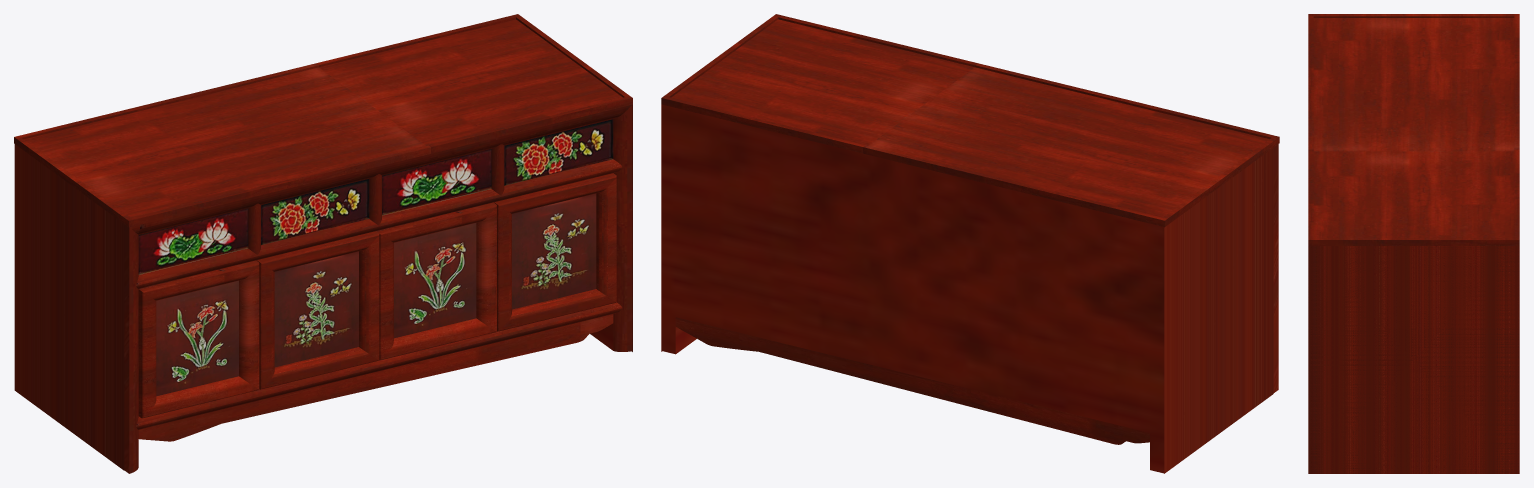
Rendered from Chiffonier_03.FBX.
The picture shows the model from 3 angles, left to right: view 1: azimuth 30°, elevation 25°; view 2: azimuth 150°, elevation 25°; view 3: azimuth 270°, elevation 25°; orthographic projection. The views are drawn at different scales.
Visible parts, largest first — view 1: Chiffonier_03; view 2: Chiffonier_03; view 3: Chiffonier_03.
Boxes of the visible parts, box(x1,y1,x2,y2) form: Chiffonier_03: box(14, 14, 632, 473); Chiffonier_03: box(661, 14, 1279, 473); Chiffonier_03: box(1308, 14, 1519, 473).
Size of the model in its own units: 83.27 by 40.15 by 32.86.
